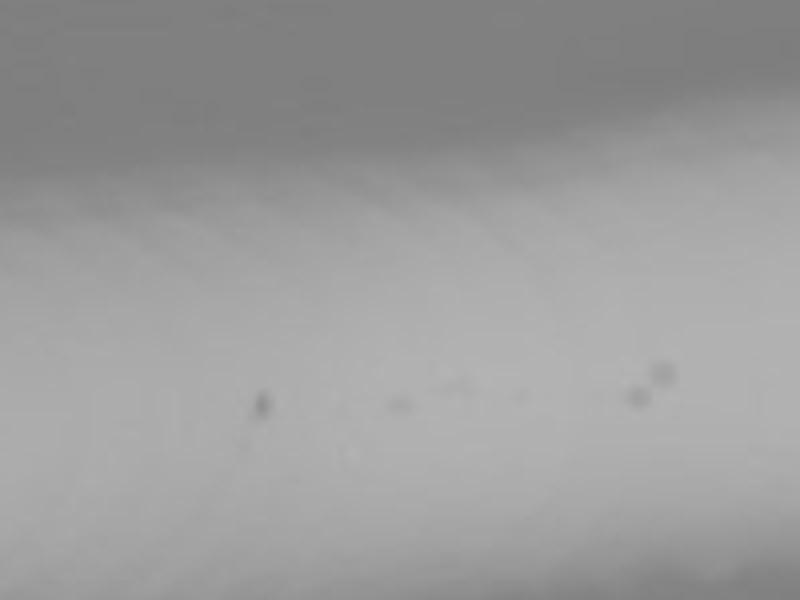defect: (646, 356, 679, 392), (440, 372, 474, 403), (251, 385, 274, 424), (620, 386, 649, 413), (388, 397, 414, 421)
